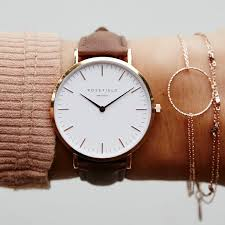clock: (54, 63, 152, 159)
